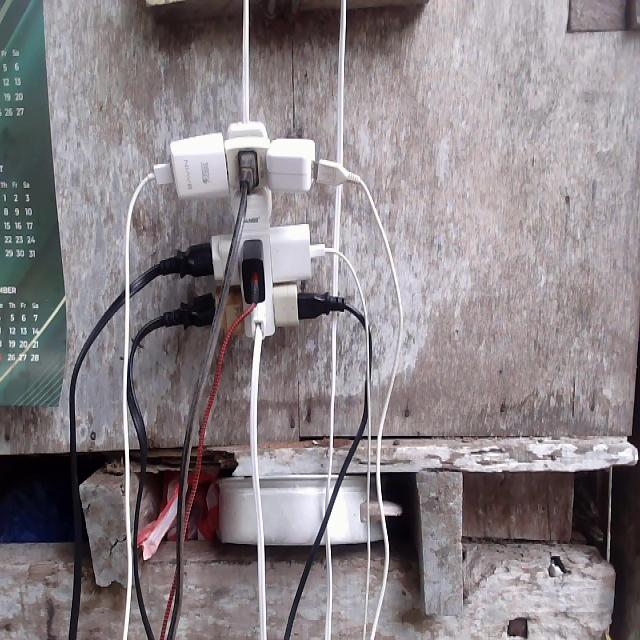-: (139, 119, 363, 340)
